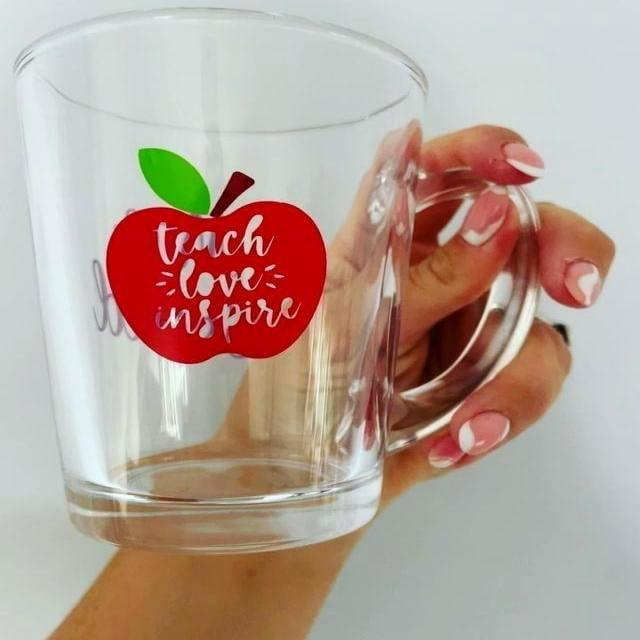glass-mug: (8, 0, 552, 561)
